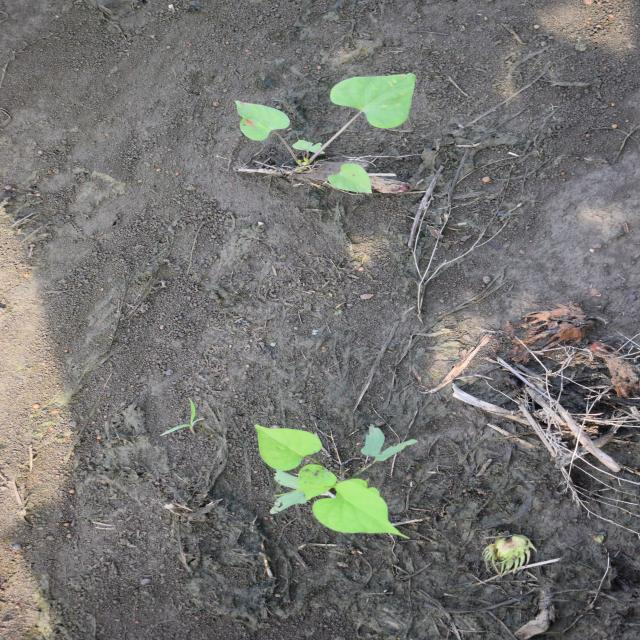MorningGlory: (232, 72, 421, 196), (252, 422, 424, 544)
